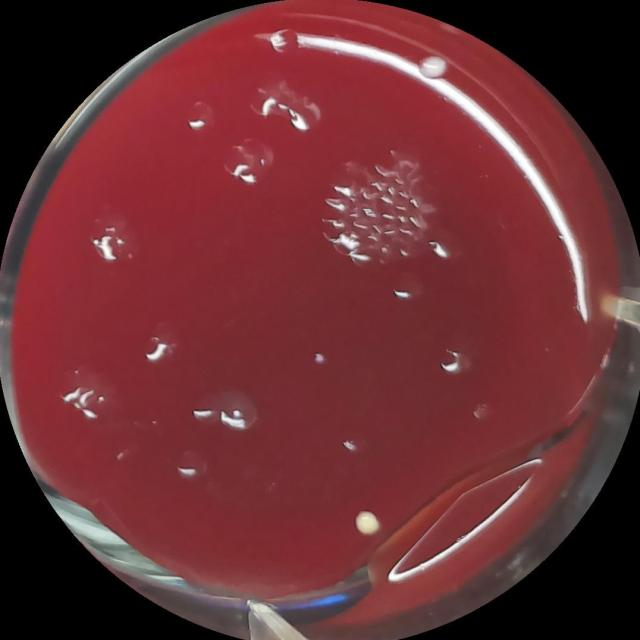Staphylococcus: (353, 509, 383, 539)
